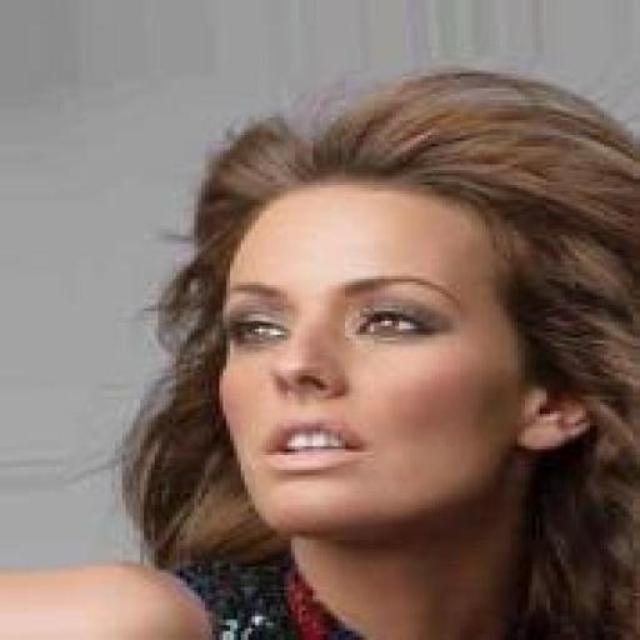bareface: (225, 93, 612, 540)
